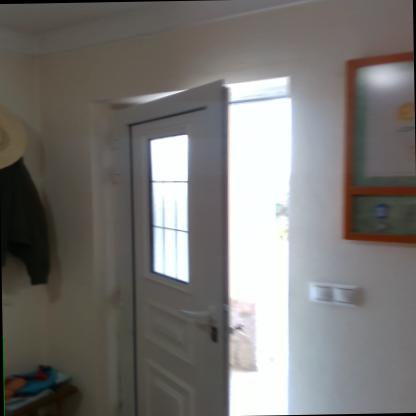semi: (80, 67, 319, 415)
